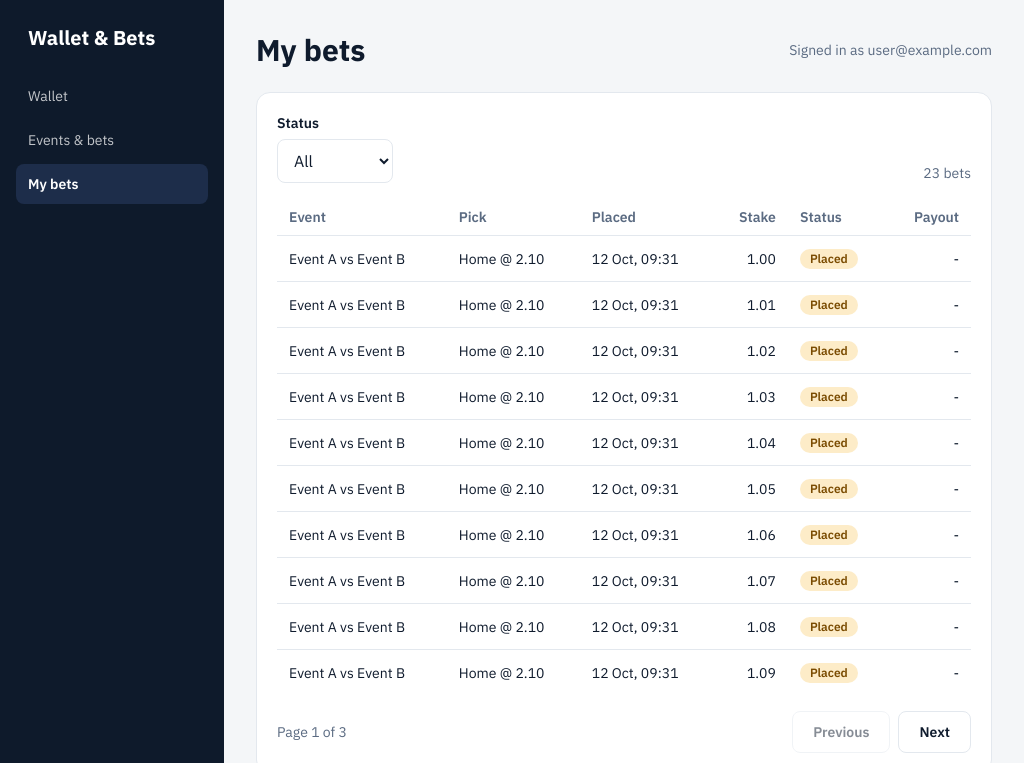
Test: My bets page › paginates
Expected: the text "Page 1 of 3" is shown, [277,722,347,742]
Click the button "Next". click: {"x": 935, "y": 732}
box: [898,711,971,753]
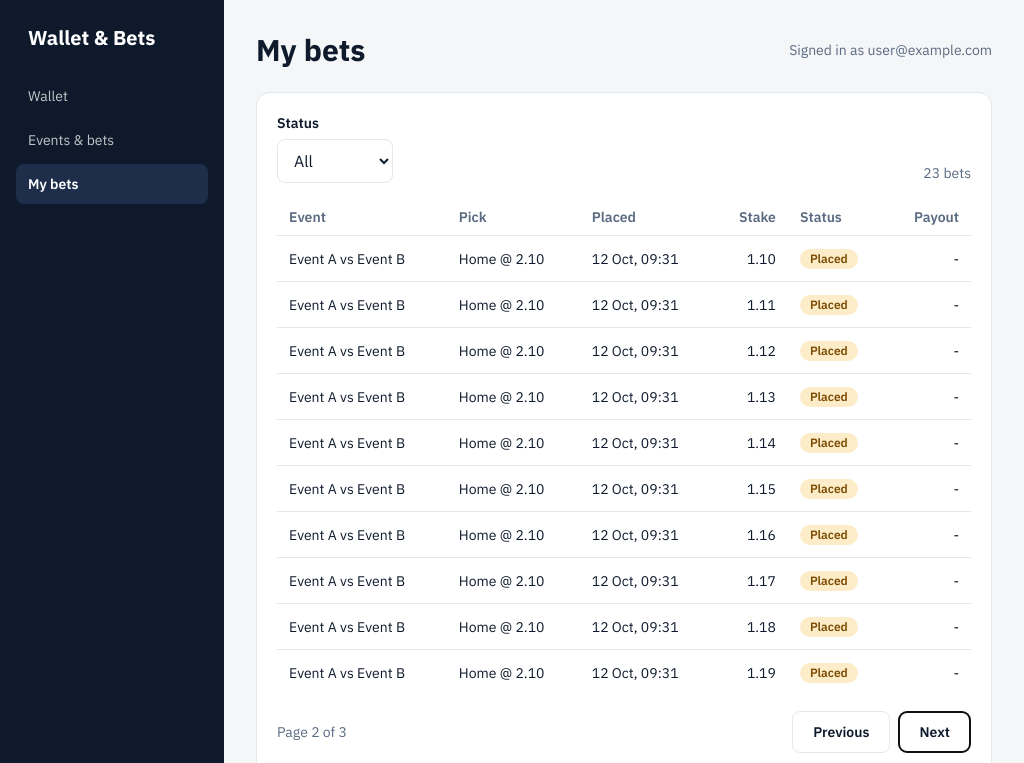
Now the text "Page 2 of 3" is shown, box [277,722,347,742]
